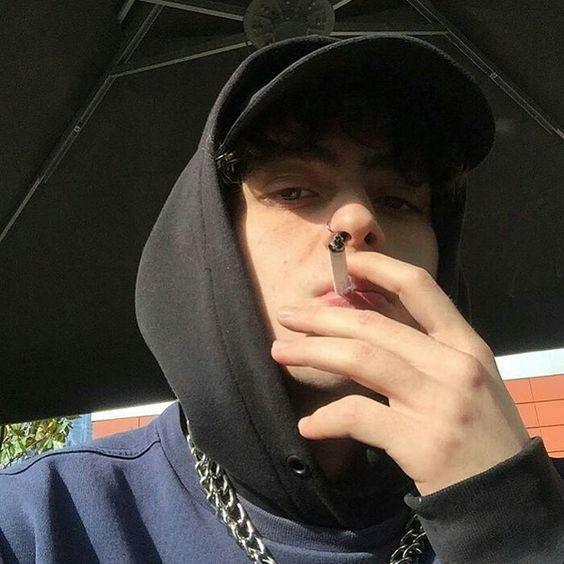cigarette: (329, 233, 352, 297)
